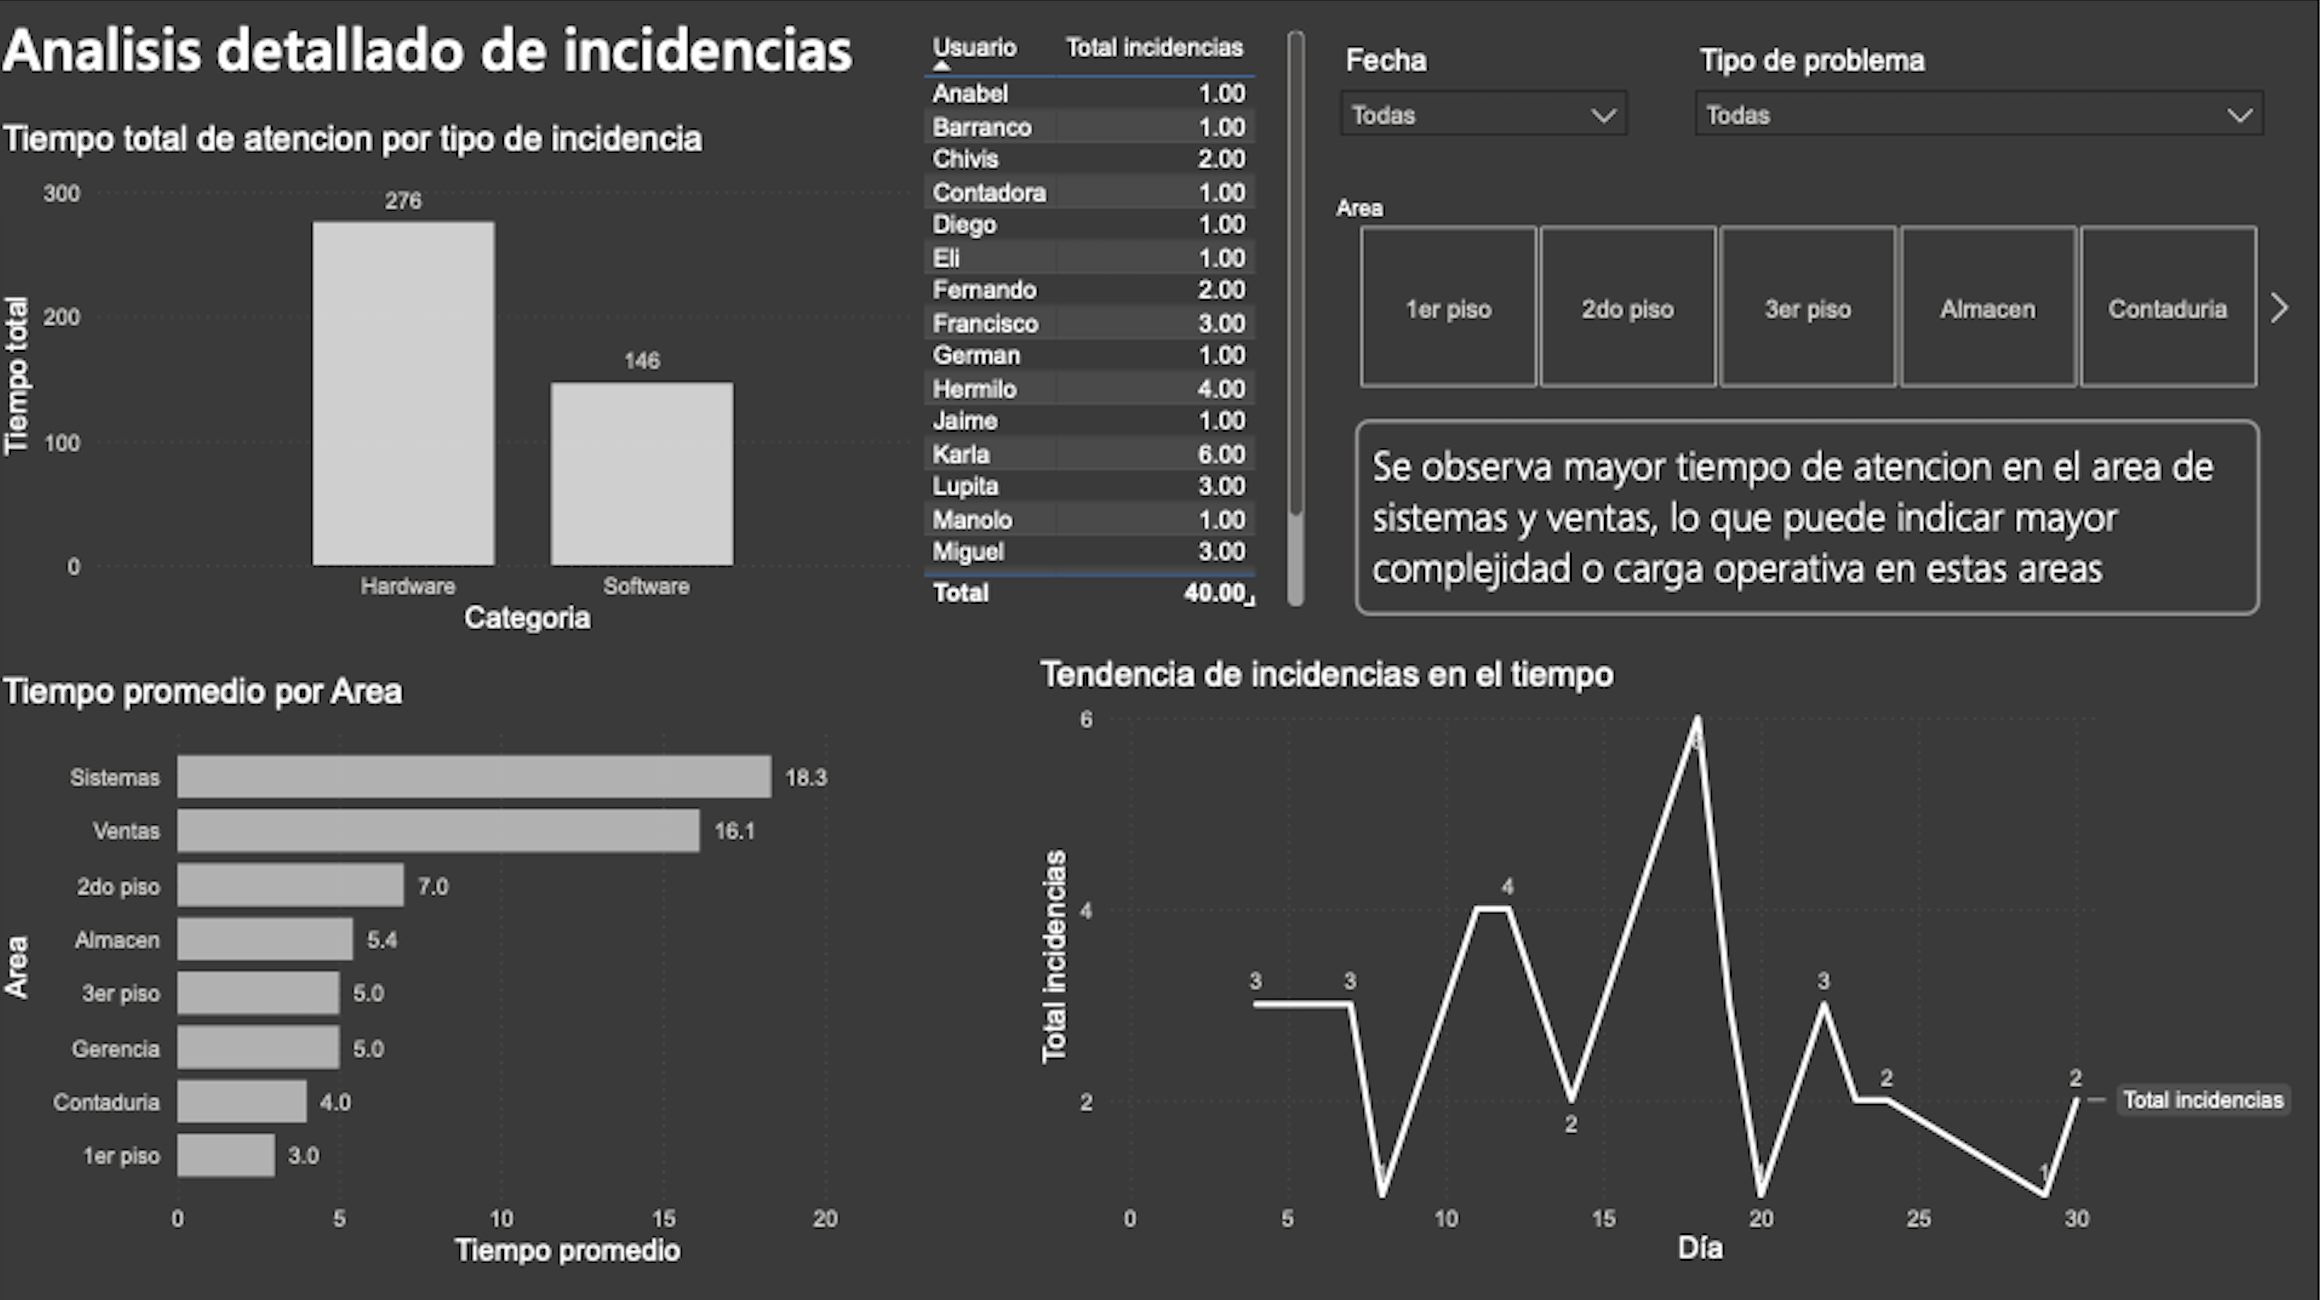

The page's visual inventory and layout, read from the dashboard file:
{"tool":"powerbi","page":{"name":"Analisis de incidencias","canvas":[1280,720],"ordinal":1},"visuals":[{"type":"clusteredBarChart","fields":{"Category":["td_incidencias.Area"],"Y":["td_incidencias.Tiempo promedio"]},"box":[0,370.9,543,330.9],"z":0},{"type":"lineChart","title":"Tendencia de incidencias en el tiempo","fields":{"Category":["td_incidencias.Fecha.Variación.Jerarquía de fechas.Día"],"Y":["td_incidencias.Total incidencias"]},"box":[570.7,361.2,698,340.3],"z":1000},{"type":"clusteredColumnChart","title":"Tiempo total de atencion por tipo de incidencia","fields":{"Category":["td_incidencias.Categoria"],"Y":["td_incidencias.Tiempo total"]},"box":[0,66.7,534.5,287.3],"z":2000},{"type":"tableEx","fields":{"Values":["td_incidencias.Usuario","select","td_incidencias.Total incidencias"]},"box":[505.9,12.7,219.9,327.6],"z":3000},{"type":"slicer","fields":{"Values":["td_incidencias.FECHA"]},"box":[730.9,20.6,178.2,64.2],"z":4000},{"type":"slicer","fields":{"Values":["td_incidencias.Tipo de problema"]},"box":[926.1,20.6,333.3,92.1],"z":5000},{"type":"slicer","fields":{"Values":["td_incidencias.Area"]},"box":[725.8,103,542.9,118.1],"z":6000},{"type":"textbox","box":[0,0,495.4,53.2],"z":7000},{"type":"textbox","box":[748.9,231.5,497.7,108.8],"z":7001}]}

Visuals, with their boxes in screenshot pixels (x1, y1, x2, y2), scaled from the page's 1280x720 canvas onto the 2320x1300 screenshot:
clusteredBarChart - td_incidencias.Area x td_incidencias.Tiempo promedio: [left=0, top=670, right=984, bottom=1267]
"Tendencia de incidencias en el tiempo" lineChart: [left=1034, top=652, right=2300, bottom=1267]
"Tiempo total de atencion por tipo de incidencia" clusteredColumnChart: [left=0, top=120, right=969, bottom=639]
tableEx - td_incidencias.Usuario x select: [left=917, top=23, right=1316, bottom=614]
slicer - td_incidencias.FECHA: [left=1325, top=37, right=1648, bottom=153]
slicer - td_incidencias.Tipo de problema: [left=1679, top=37, right=2283, bottom=203]
slicer - td_incidencias.Area: [left=1316, top=186, right=2300, bottom=399]
textbox: [left=0, top=0, right=898, bottom=96]
textbox: [left=1357, top=418, right=2259, bottom=614]
